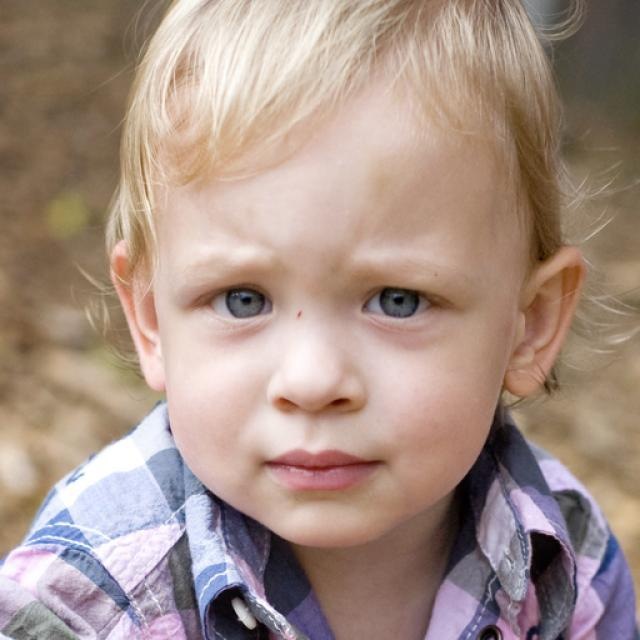anger: (160, 91, 509, 545)
